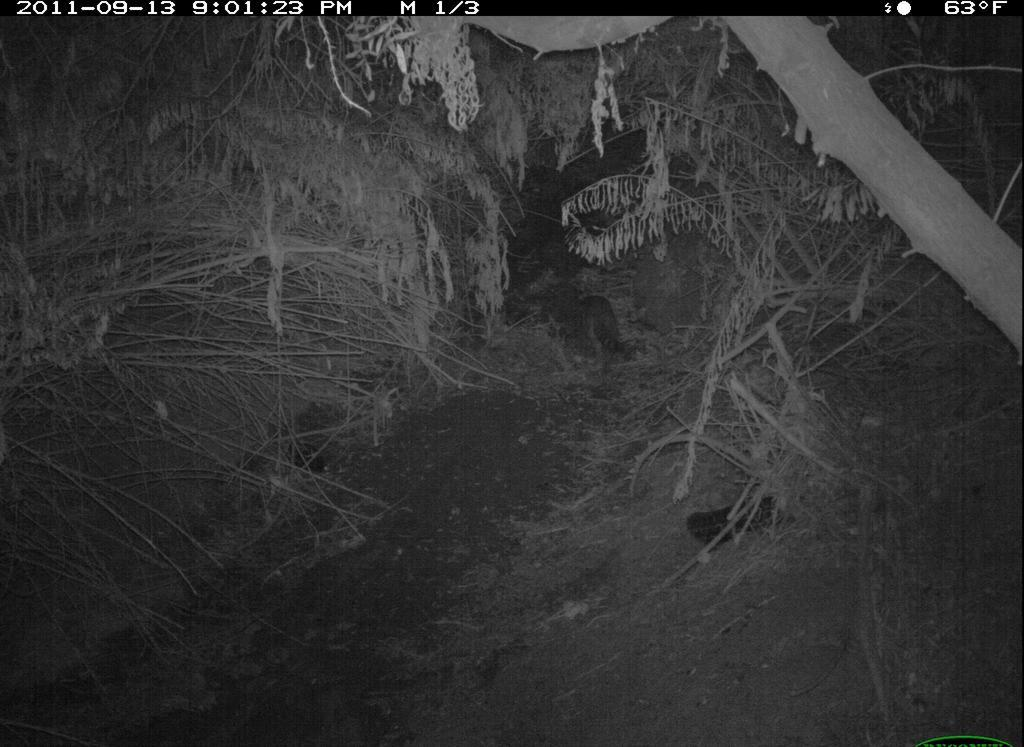raccoon: (560, 282, 656, 377)
